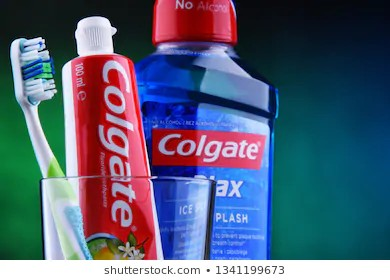colgate-Plax: (142, 2, 280, 255)
toothbrush: (11, 19, 62, 233)
